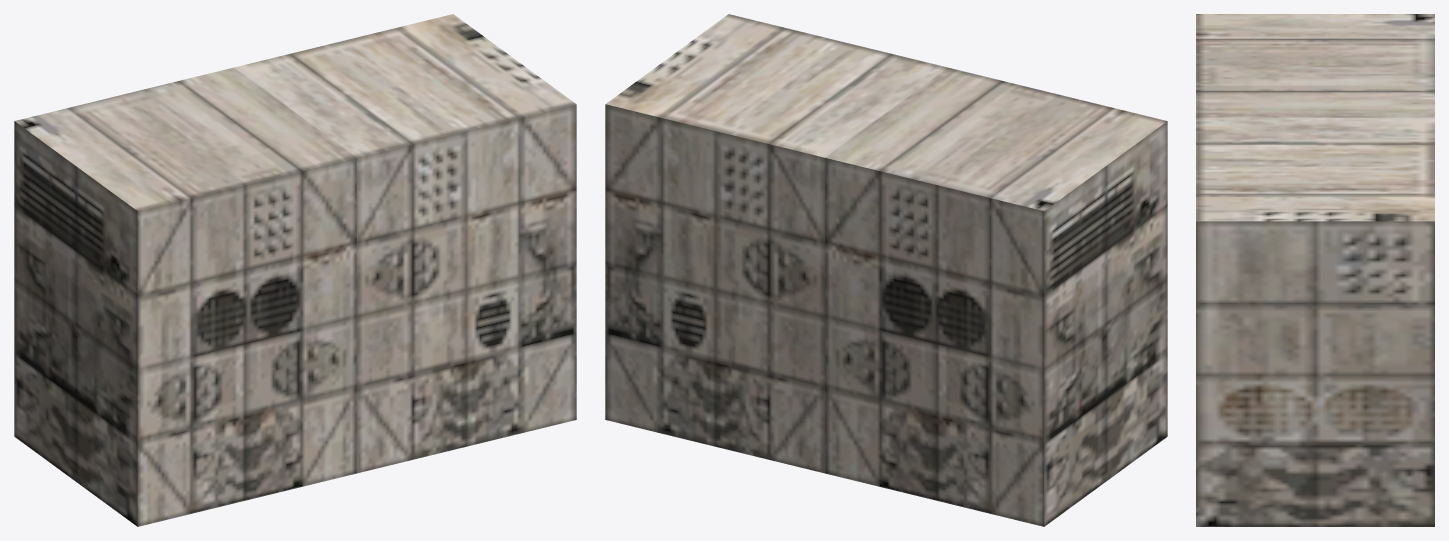
File: thm_tato_debris_s06_l2.fbx
3 views of the same model, side by side, from view 1: azimuth 30°, elevation 25°; view 2: azimuth 150°, elevation 25°; view 3: azimuth 270°, elevation 25° (orthographic). The views are drawn at different scales.
Visible parts, largest first — view 1: mesh_node; view 2: mesh_node; view 3: mesh_node.
Boxes of the visible parts, box(x1,y1,x2,y2) form: mesh_node: box(14, 14, 576, 526); mesh_node: box(605, 14, 1167, 526); mesh_node: box(1196, 14, 1434, 526).
Bounding box in the file's own units: 0.7396 × 0.5085 × 0.3598.
Materials: 1 (1 with a texture image).
